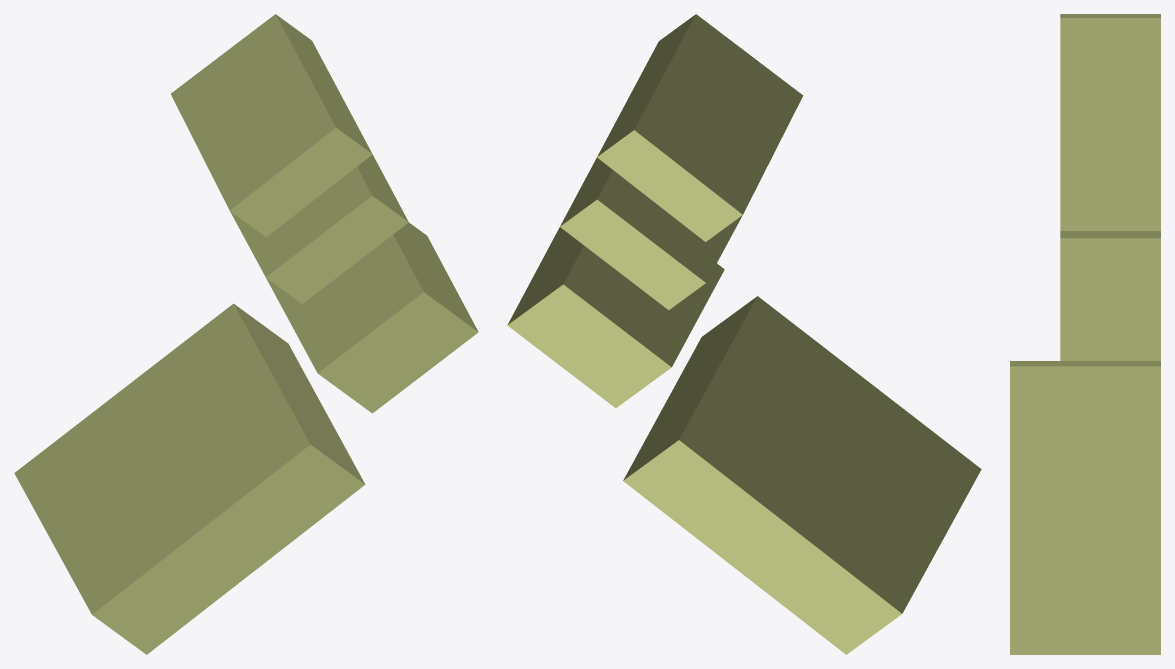
3 views of the same model, side by side, from view 1: azimuth 30°, elevation 25°; view 2: azimuth 150°, elevation 25°; view 3: azimuth 270°, elevation 25° (orthographic). The views are drawn at different scales.
Parts seen in each view (by area): view 1: 0_1_0_2_0_3_1_0_1; view 2: 0_1_0_2_0_3_1_0_1; view 3: 0_1_0_2_0_3_1_0_1.
Part boxes in pixels (<box>): 0_1_0_2_0_3_1_0_1: <box>14,14,478,654</box>; 0_1_0_2_0_3_1_0_1: <box>507,14,981,654</box>; 0_1_0_2_0_3_1_0_1: <box>1010,14,1160,654</box>.
Size of the model in its own units: 38.8 by 50.33 by 9.
